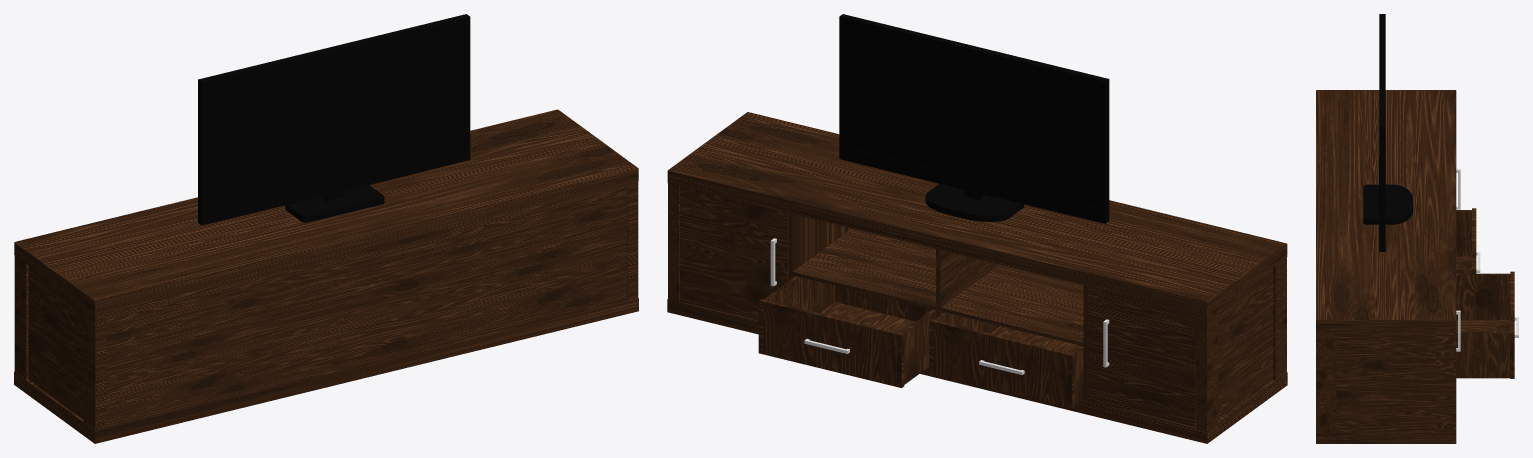
Rendered from tv_set.glb.
3 renders of one model, left to right at view 1: azimuth 30°, elevation 25°; view 2: azimuth 150°, elevation 25°; view 3: azimuth 270°, elevation 25°, orthographic. The views are drawn at different scales.
Parts seen in each view (by area): view 1: Cube.006, Plane, Cube.001, Cube, Cube.005; view 2: Plane, Cube.001, Cube.008, Cube, Cube.013, Cube.012, Cube.010, Cube.009, Cube.007, Cube.005, Cube.002; view 3: Cube.001, Cube.004, Cube.008, Cube, Plane, Cube.010.
Part boxes in pixels (box(x1,y1,x2,y2)): Cube.006: box(106, 184, 626, 427); Plane: box(198, 14, 470, 225); Cube.001: box(14, 109, 638, 313); Cube: box(14, 181, 638, 443); Cube.005: box(28, 266, 83, 419); Plane: box(839, 14, 1109, 223); Cube.001: box(667, 112, 1287, 314); Cube.008: box(758, 276, 935, 387); Cube: box(667, 183, 1287, 443); Cube.013: box(1087, 286, 1195, 427); Cube.012: box(680, 186, 788, 320); Cube.010: box(929, 312, 1083, 408); Cube.009: box(940, 264, 1083, 346); Cube.007: box(792, 228, 935, 310); Cube.005: box(1218, 267, 1273, 419); Cube.002: box(788, 213, 851, 280); Cube.001: box(1316, 90, 1456, 331); Cube.004: box(1336, 331, 1436, 431); Cube.008: box(1456, 271, 1514, 378); Cube: box(1316, 331, 1456, 443); Plane: box(1363, 14, 1412, 251); Cube.010: box(1456, 208, 1476, 273).
Size of the model in its own units: 10.69 by 5.76 by 3.98.
3 materials, 1 textured.
